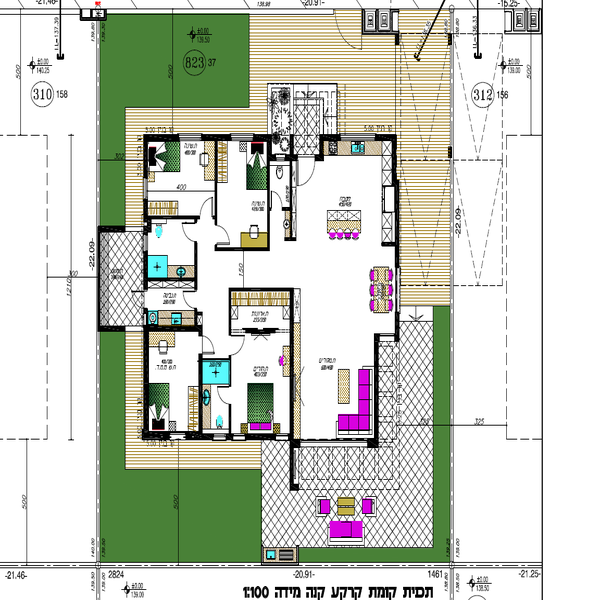door: (189, 329, 216, 360), (297, 159, 323, 190), (226, 330, 249, 361), (180, 286, 207, 312), (182, 219, 207, 244), (213, 224, 235, 250), (198, 194, 217, 219), (217, 384, 240, 404), (269, 186, 285, 210)
room: (292, 284, 381, 447), (287, 133, 402, 255), (227, 287, 296, 442), (215, 133, 277, 254), (143, 326, 205, 438), (137, 134, 219, 218), (142, 219, 198, 334)
wall: (288, 288, 296, 484), (95, 233, 102, 332), (374, 334, 380, 448), (144, 324, 149, 439), (266, 138, 271, 249), (395, 185, 401, 270), (137, 214, 199, 222), (198, 354, 204, 432), (232, 287, 296, 293), (148, 326, 199, 332), (392, 140, 399, 183), (217, 249, 267, 255), (94, 224, 127, 233), (151, 275, 193, 282), (228, 287, 234, 336), (203, 133, 230, 143), (142, 134, 179, 141), (193, 245, 198, 290), (143, 254, 149, 289), (394, 313, 402, 339), (320, 133, 338, 144), (144, 140, 148, 181), (102, 325, 124, 332), (378, 133, 397, 141), (255, 134, 271, 143), (144, 202, 148, 233)
window: (301, 441, 371, 447), (342, 133, 376, 142), (169, 430, 186, 444), (395, 277, 401, 308), (212, 432, 228, 443), (235, 429, 248, 441), (277, 432, 290, 443), (143, 182, 150, 199)
